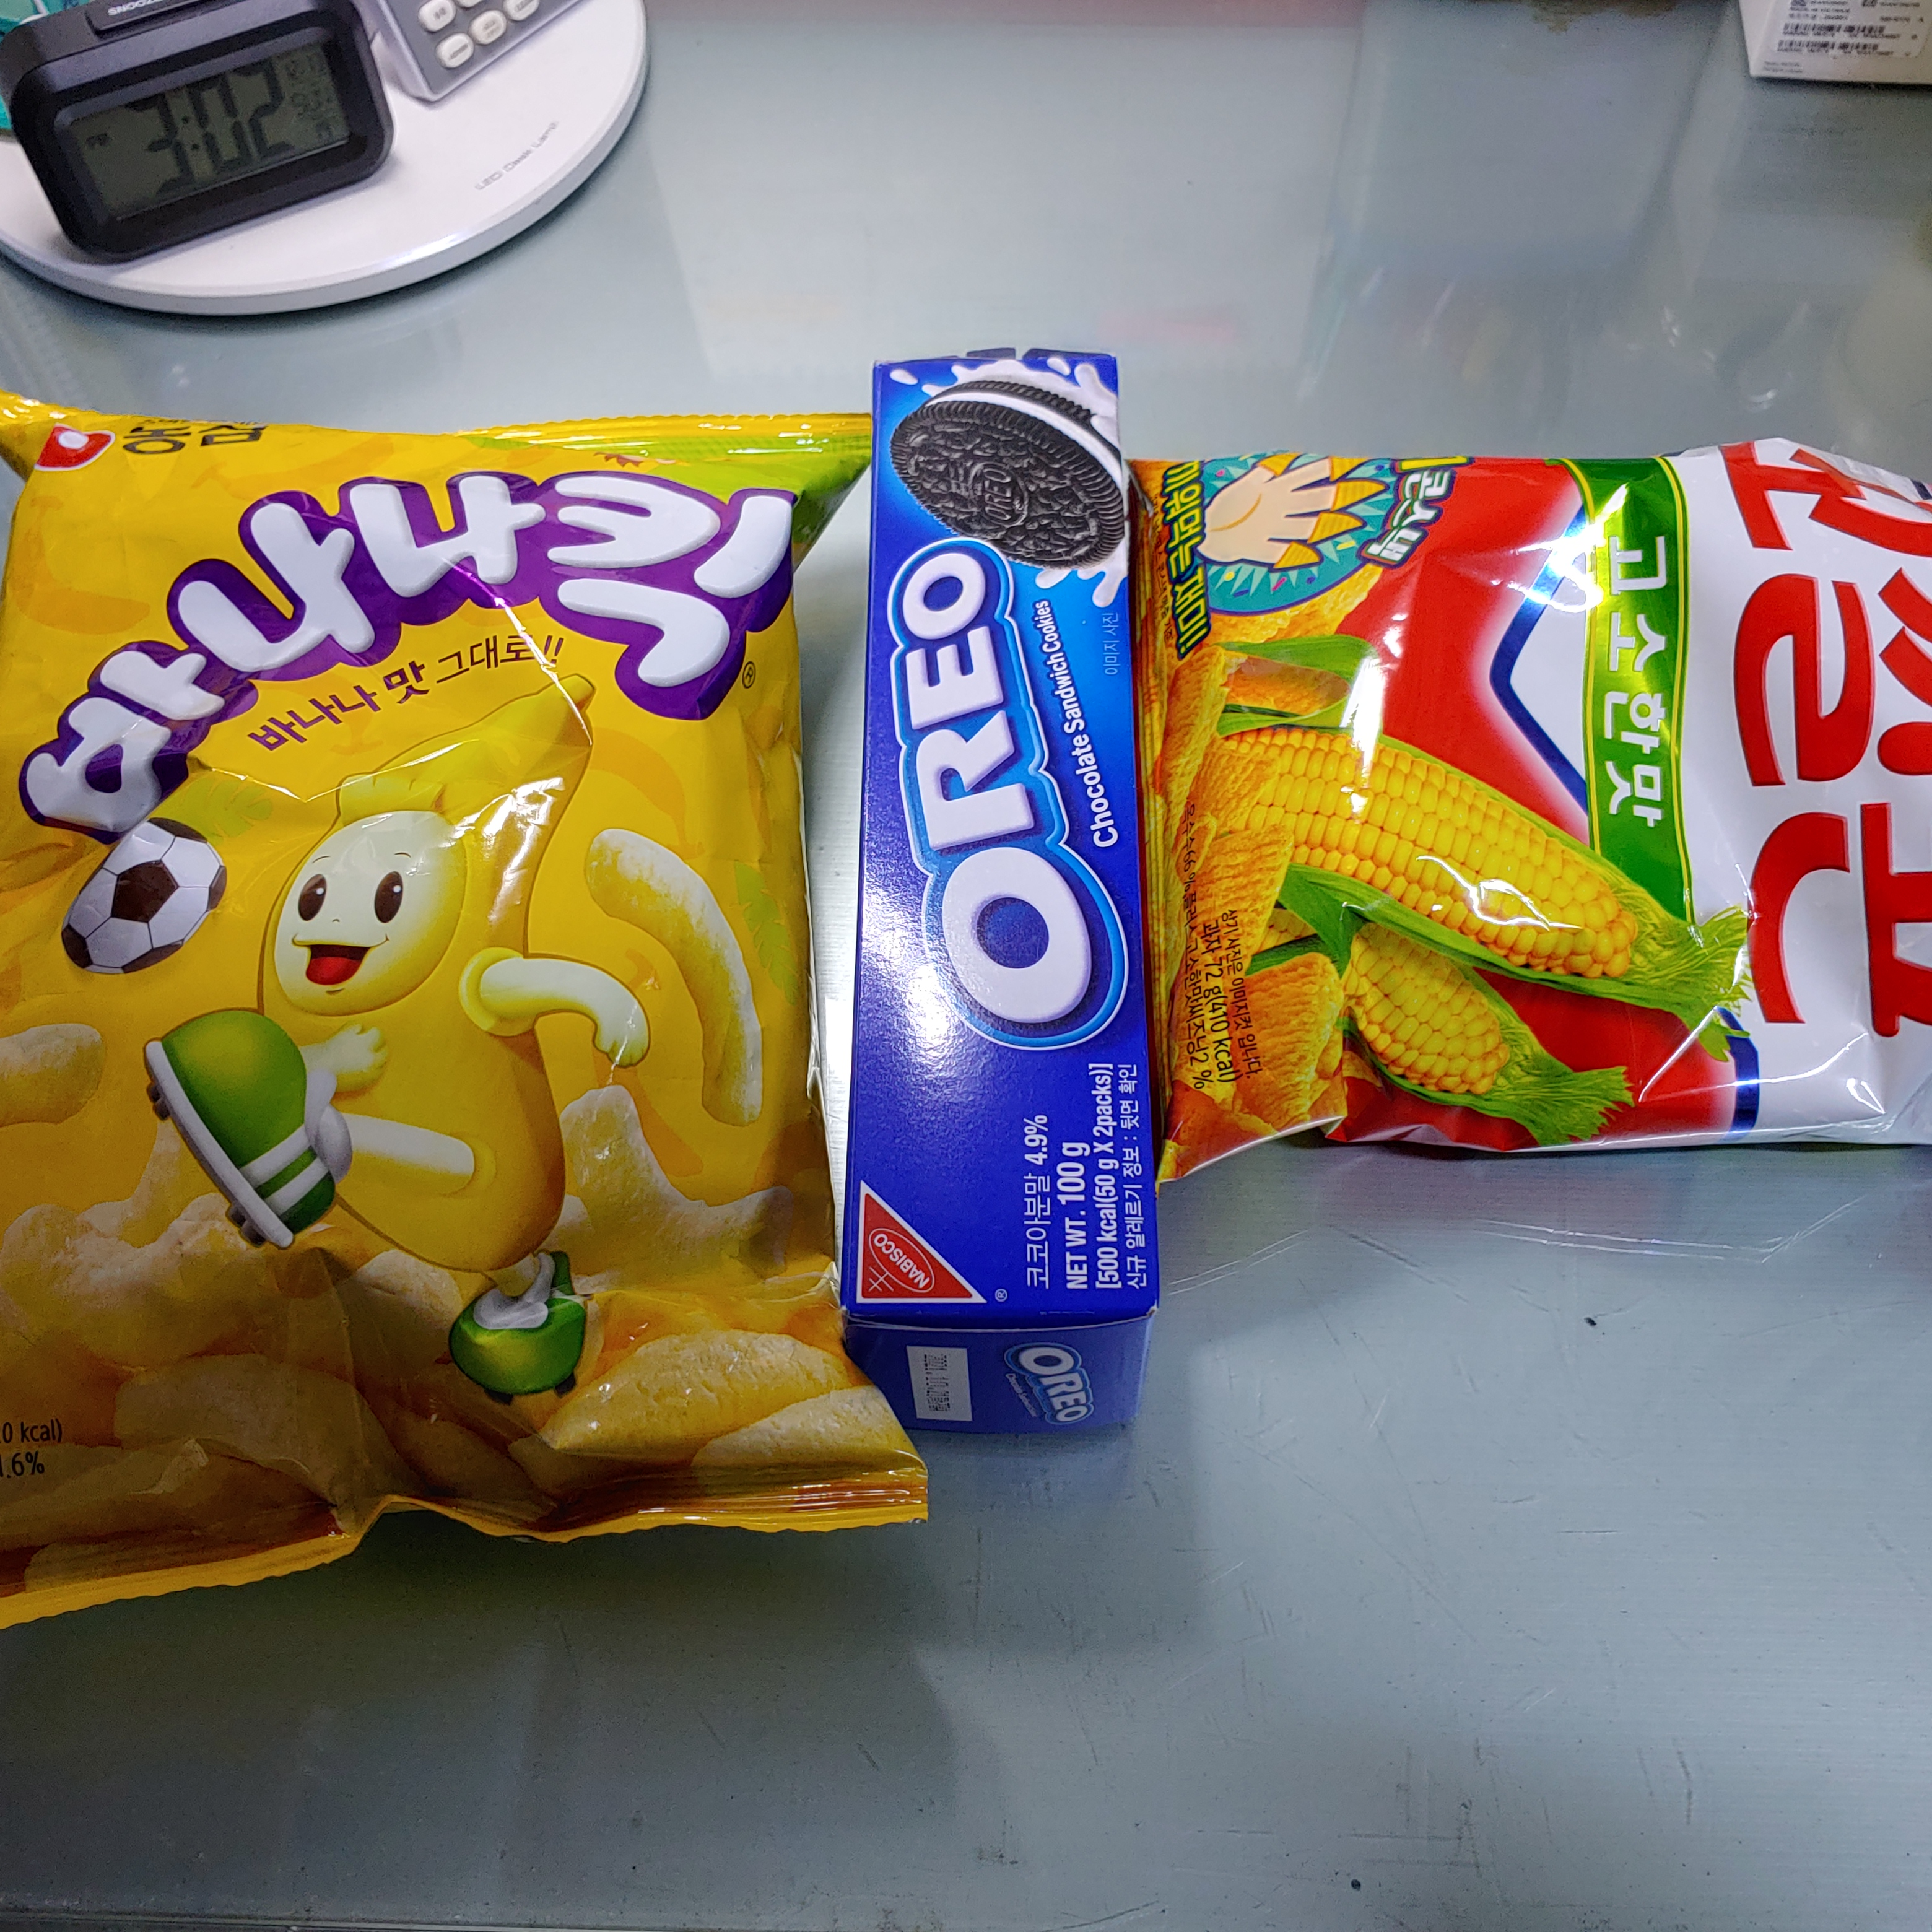banana: (9, 315, 1010, 1697)
ggoggalcon: (1109, 290, 1932, 1288)
oreo: (794, 283, 1246, 1495)
